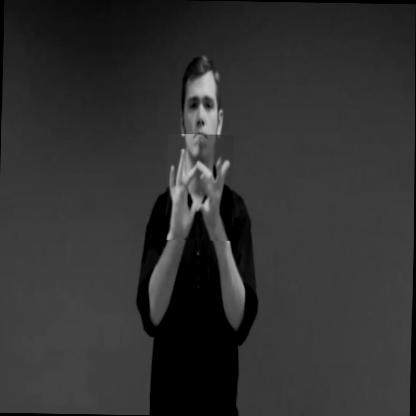Internet: (165, 133, 234, 241)
